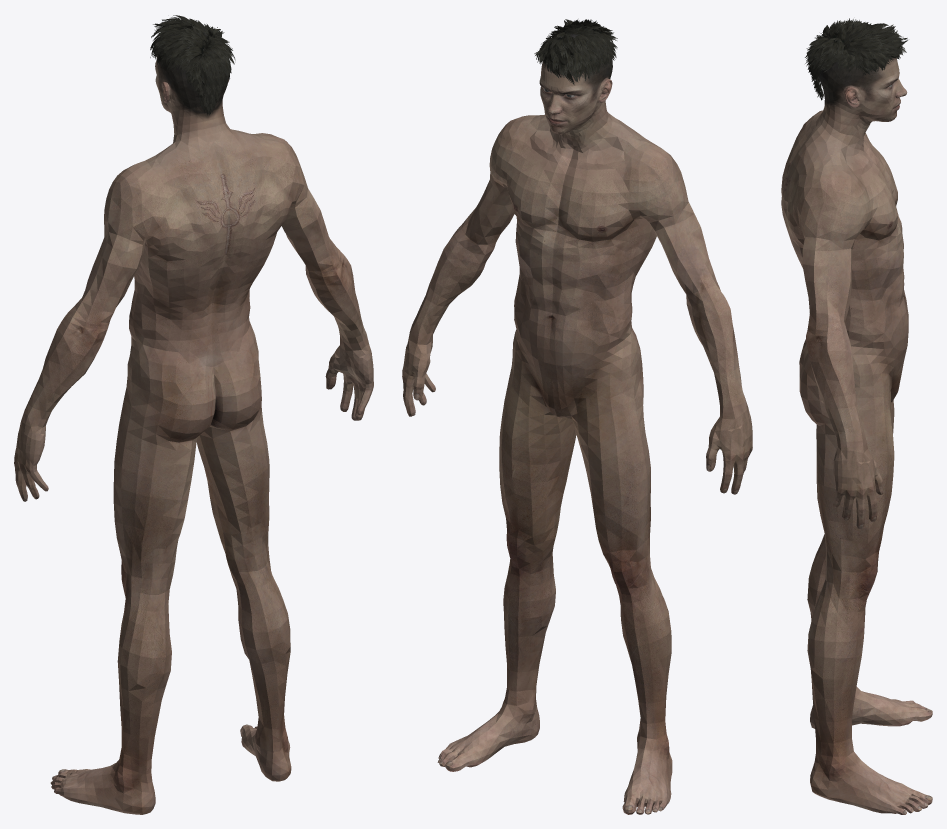
Rendered from Dante3.obj.
The picture shows the model from 3 angles, left to right: view 1: azimuth 30°, elevation 25°; view 2: azimuth 150°, elevation 25°; view 3: azimuth 270°, elevation 25°; orthographic projection. The views are drawn at different scales.
Visible parts, largest first — view 1: s_dante_naked; view 2: s_dante_naked; view 3: s_dante_naked.
Part boxes in pixels (x1,y1,x2,y2): s_dante_naked: [14, 15, 373, 814]; s_dante_naked: [402, 19, 752, 814]; s_dante_naked: [781, 18, 932, 814].
Bounding box in the file's own units: 94.1 × 196 × 36.33.
